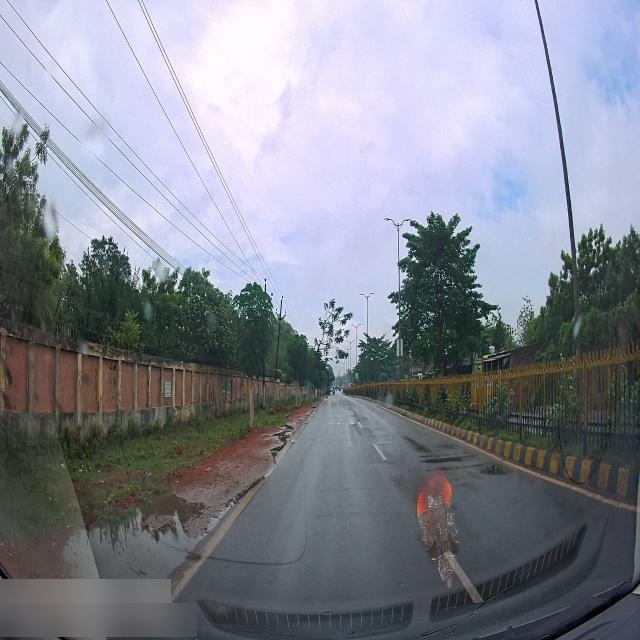pothole: (90, 494, 203, 587), (480, 457, 510, 478), (422, 448, 463, 463)
